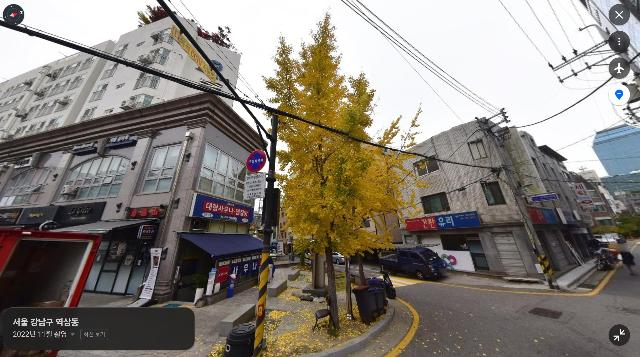ginkgo: (262, 8, 395, 332), (338, 69, 431, 290)
other: (606, 218, 640, 246)
